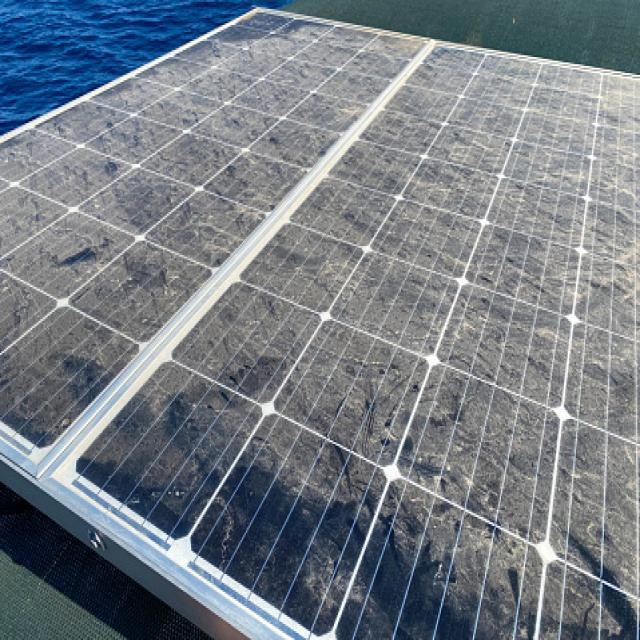dust-solar-panel: (0, 4, 640, 640)
